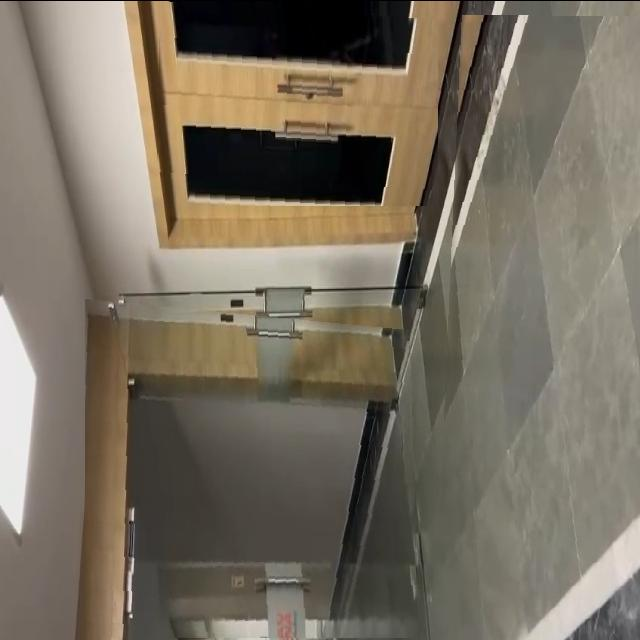door: (85, 297, 420, 637), (157, 0, 438, 205)
floor: (435, 14, 640, 618)
